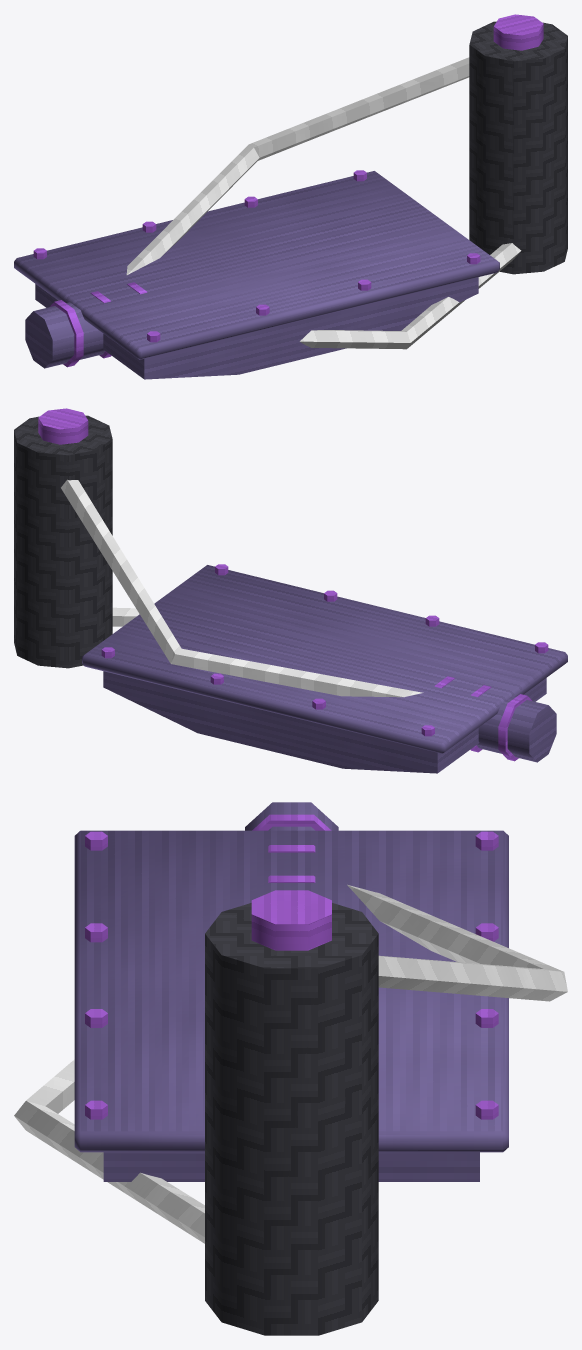
File: carter_n5.glb
The picture shows the model from 3 angles, top to bottom: view 1: azimuth 30°, elevation 25°; view 2: azimuth 150°, elevation 25°; view 3: azimuth 270°, elevation 25°; orthographic projection. The views are drawn at different scales.
Visible parts, largest first — view 1: carter_n5; view 2: carter_n5; view 3: carter_n5.
Boxes of the visible parts, left/top/right/bottom form: carter_n5: left=14, top=14, right=567, bottom=379; carter_n5: left=14, top=408, right=567, bottom=773; carter_n5: left=14, top=802, right=567, bottom=1335.
Bounding box in the file's own units: 0.7171 × 0.31 × 0.3828.
Materials: 3 (3 with a texture image).
